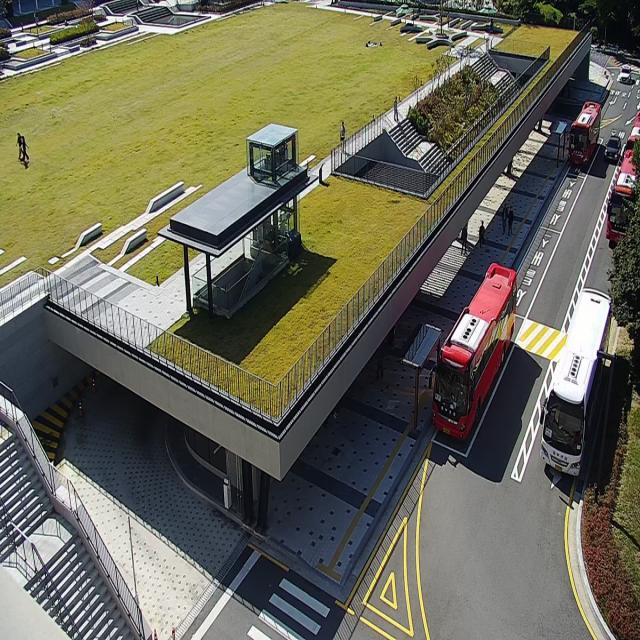queue: (416, 330, 442, 437)
